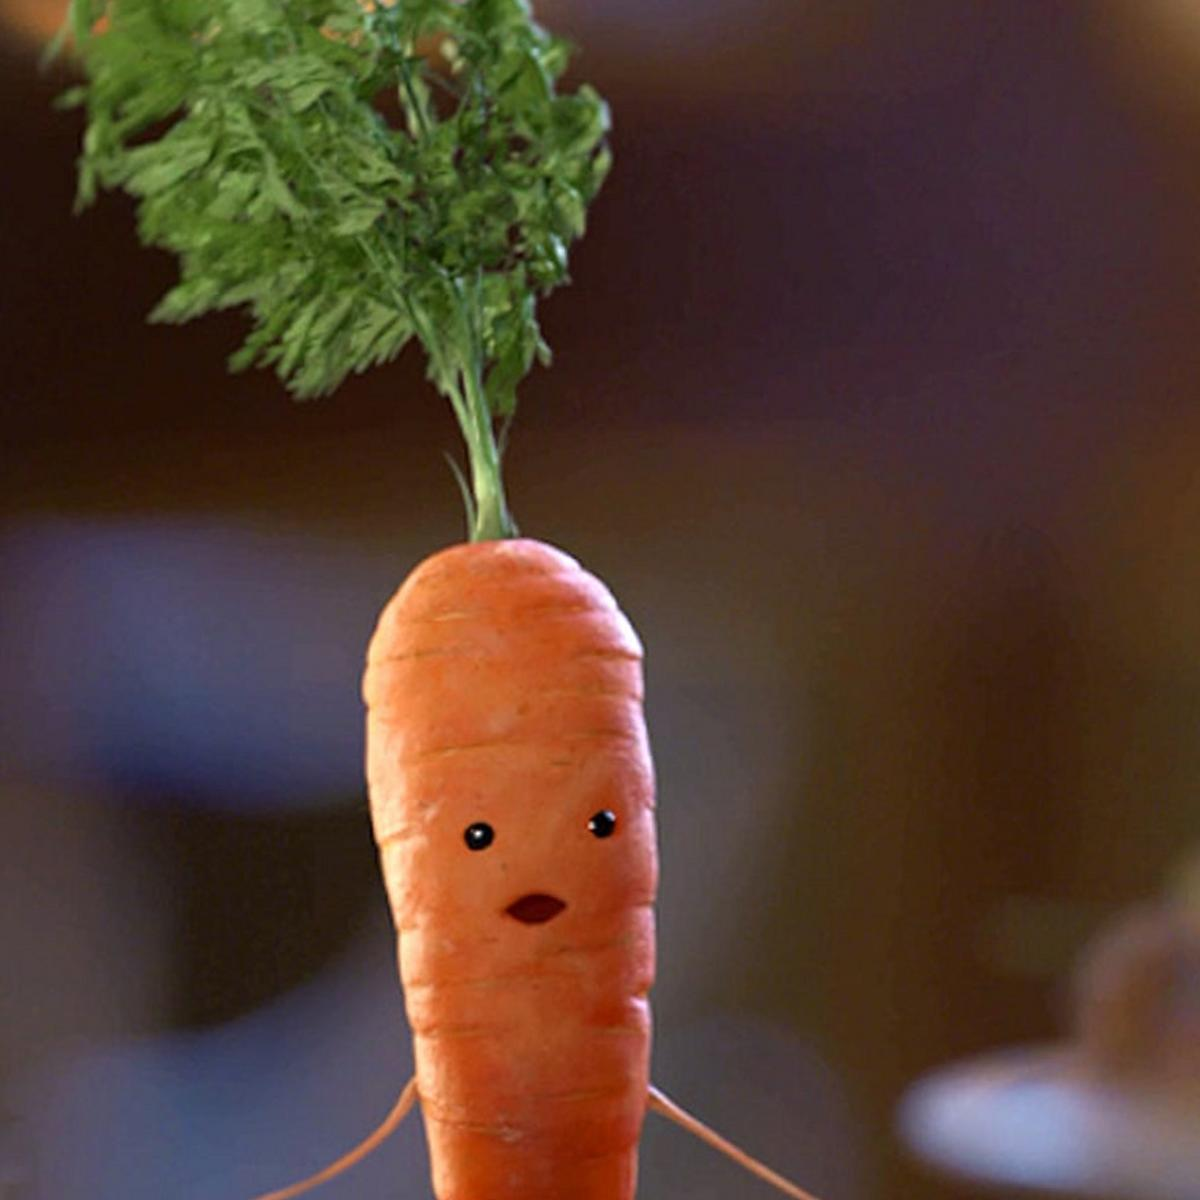carrot: (285, 122, 678, 1200), (337, 468, 660, 1200)
